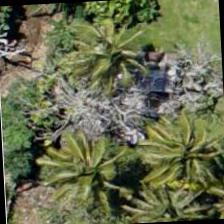Kelapa_Sawit: (57, 12, 152, 107), (28, 118, 123, 212), (132, 114, 223, 210)
